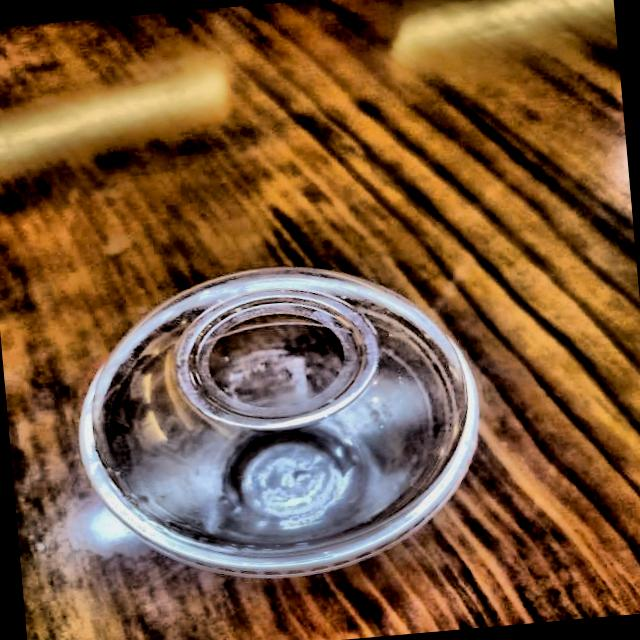plastic cup: (26, 223, 528, 632)
